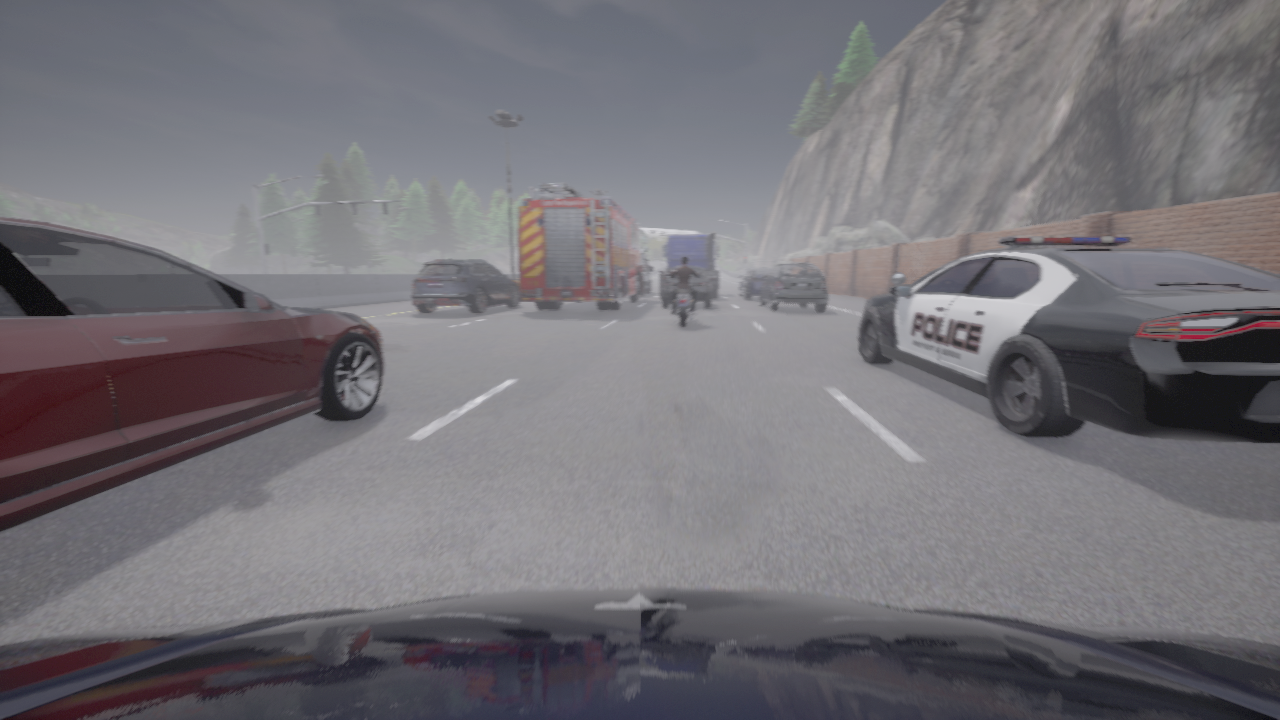cyclist: (0, 588, 1279, 719), (858, 237, 1279, 443), (518, 182, 647, 310), (412, 259, 519, 314), (659, 232, 719, 298), (759, 263, 826, 311), (662, 266, 711, 308), (673, 271, 699, 328), (738, 268, 771, 299), (639, 251, 651, 295)
